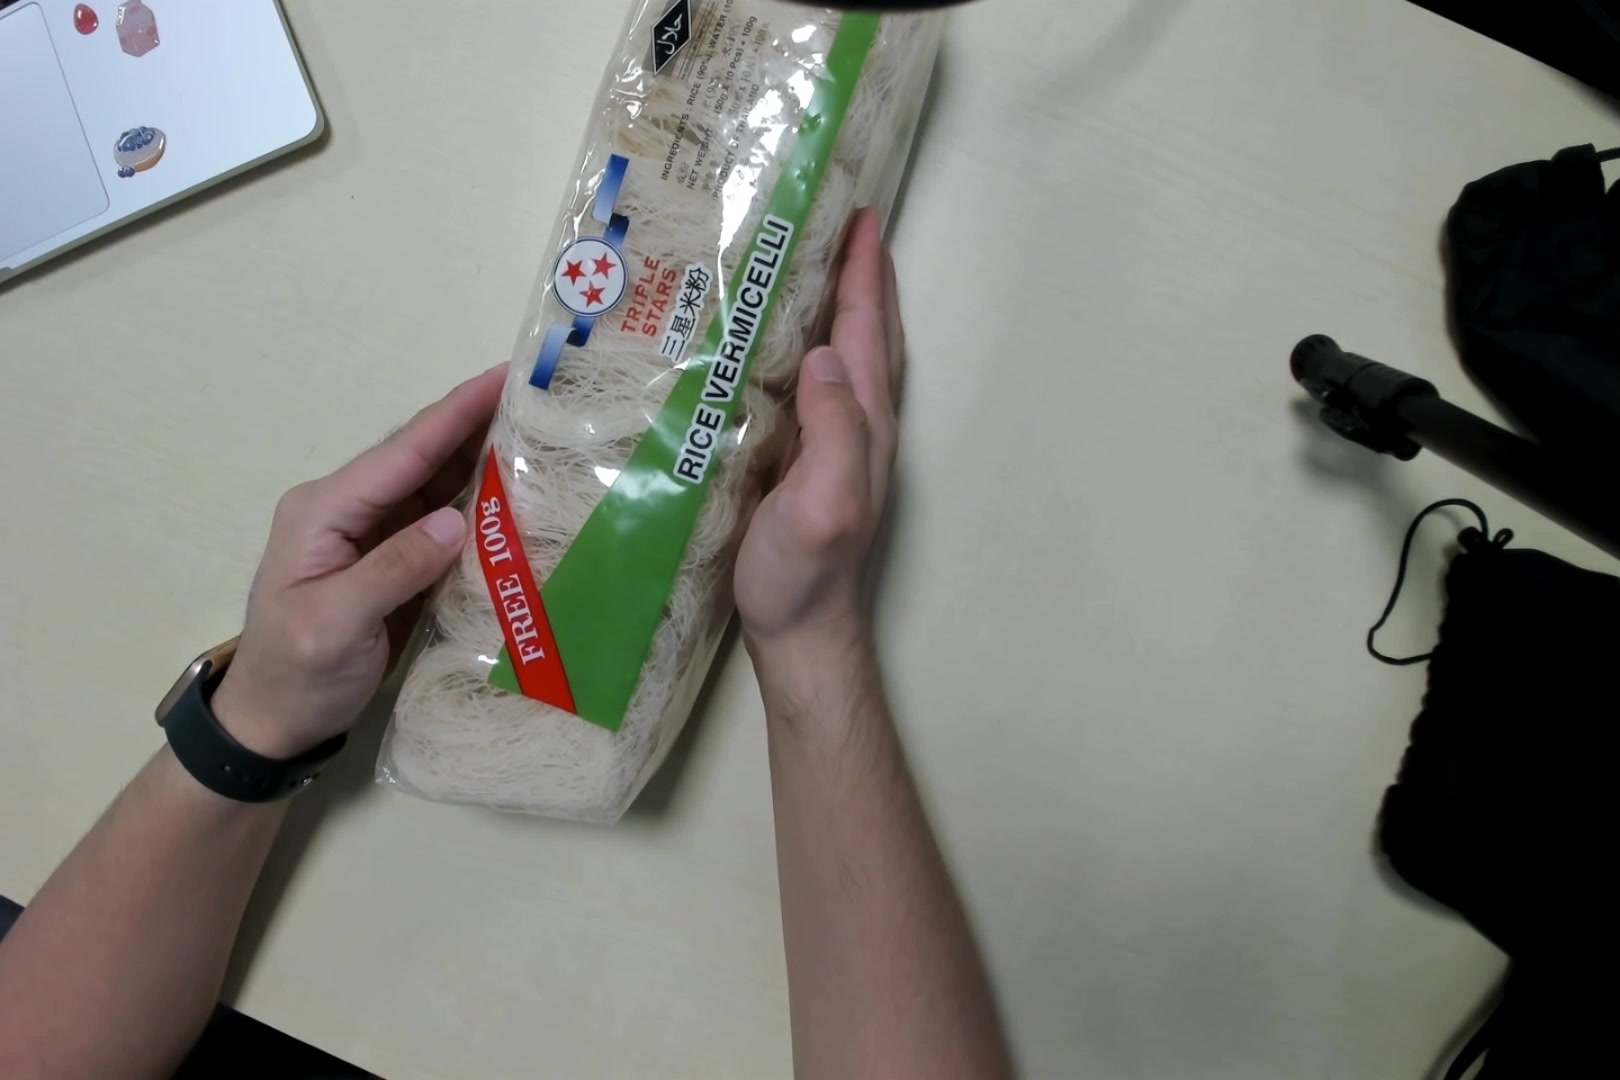BeeHoonVermicelliMeeSua_600-699g_Halal_NonHealthy: (397, 1, 904, 840)
